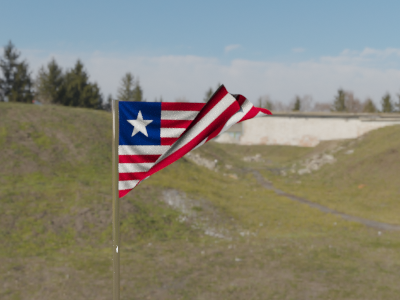Liberia flag: (117, 81, 272, 197)
